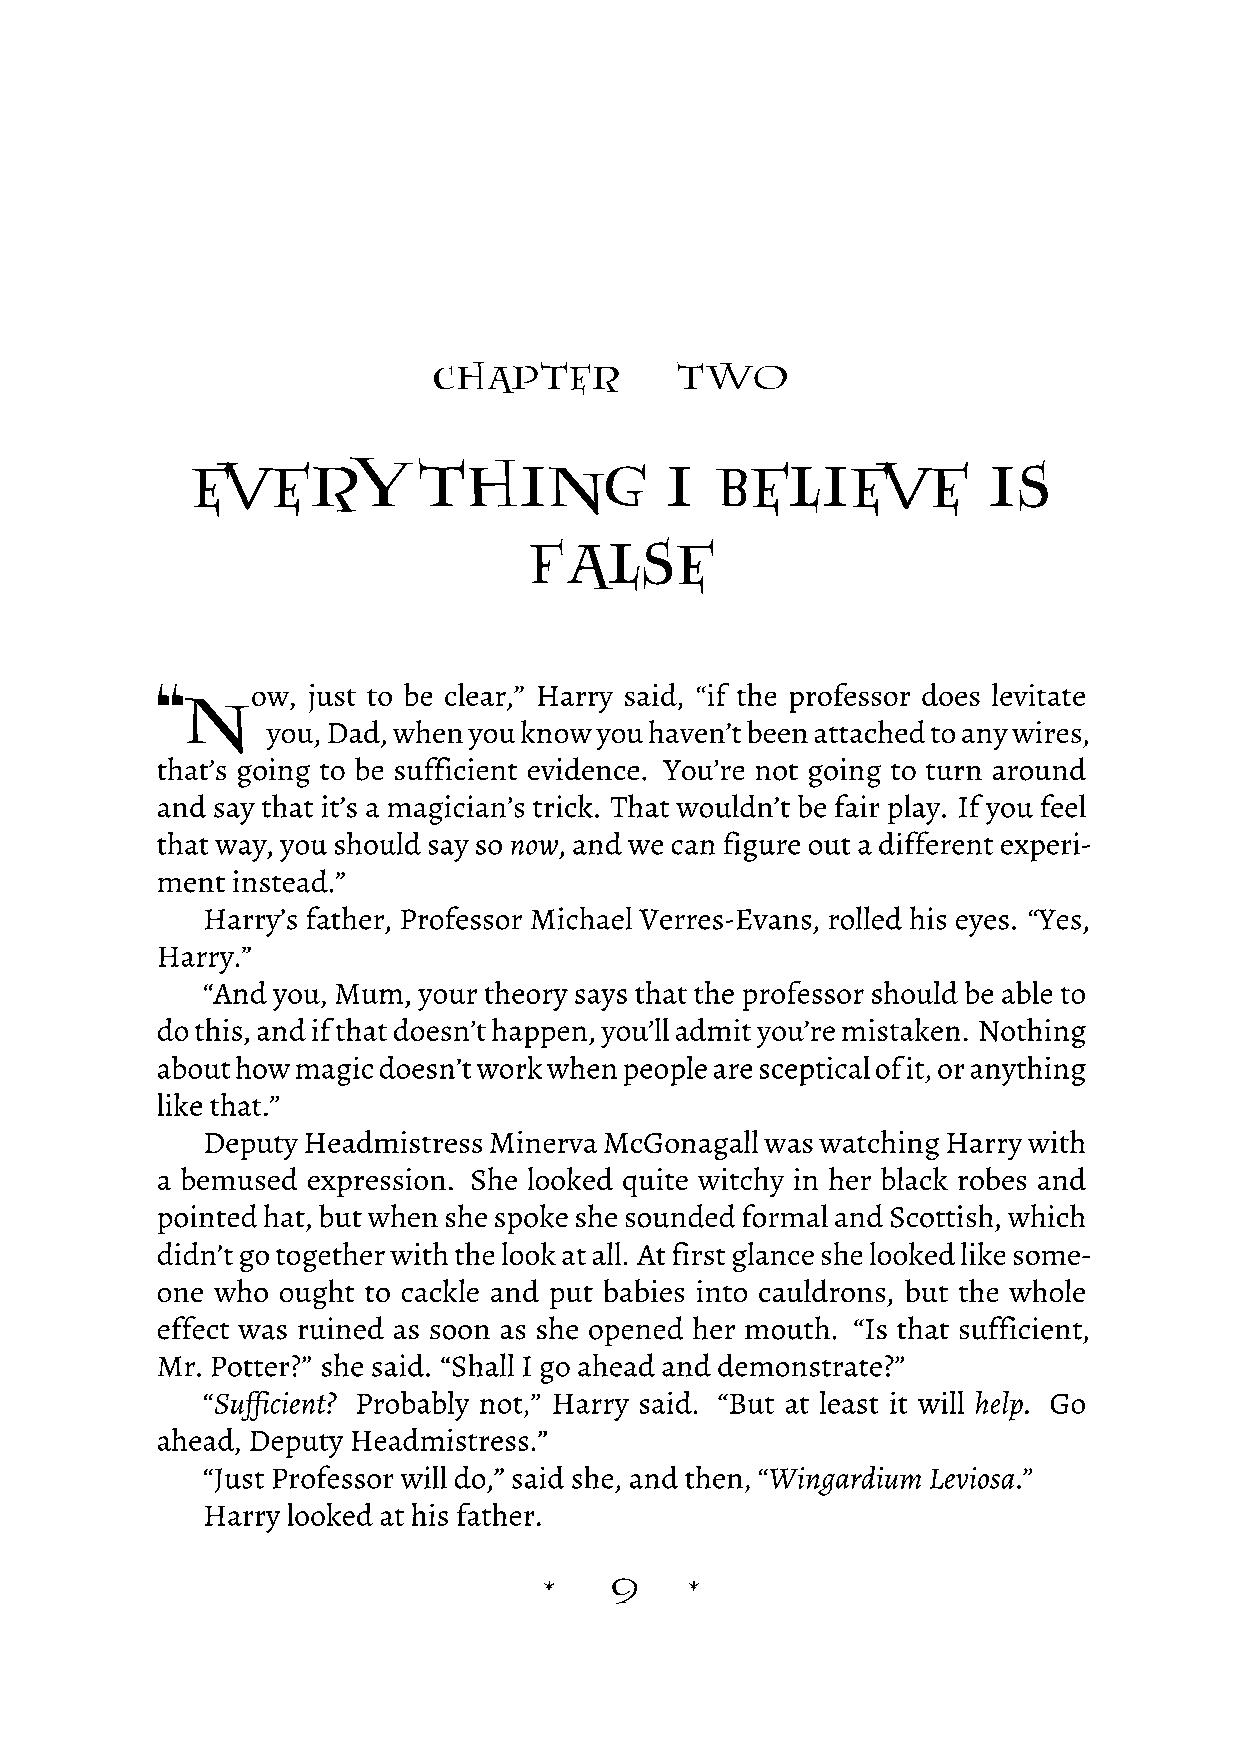chapter: (191, 358, 1048, 595)
content: (154, 679, 1088, 1539)
content_pagenumber: (607, 1571, 639, 1608)
